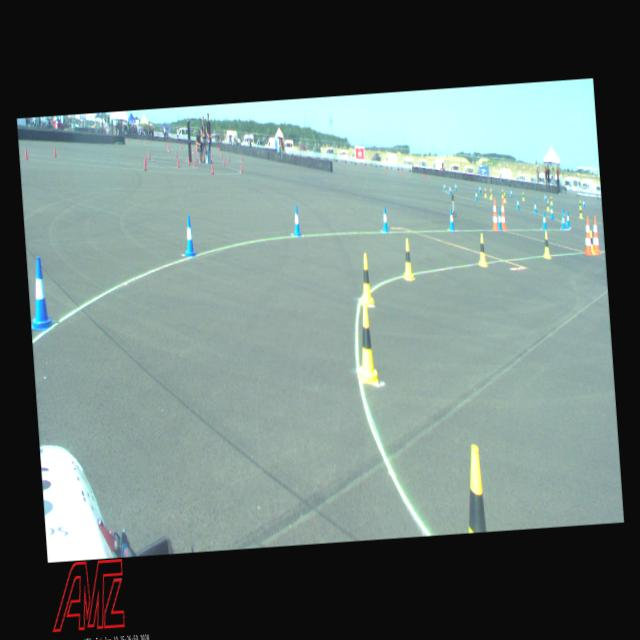blue_cone: (26, 257, 54, 331), (181, 215, 197, 258), (291, 205, 301, 236), (380, 206, 388, 233), (447, 207, 454, 230), (497, 208, 502, 230), (560, 212, 566, 230), (540, 212, 546, 230), (548, 204, 554, 220), (565, 210, 570, 228), (560, 208, 565, 224), (514, 197, 520, 210), (532, 200, 537, 214), (473, 190, 478, 201), (581, 198, 585, 208), (442, 182, 446, 192), (448, 183, 451, 194), (543, 192, 546, 202), (509, 188, 512, 198), (478, 184, 481, 193), (454, 182, 457, 191)
large_orange_cone: (581, 215, 592, 256), (590, 216, 600, 254), (489, 198, 499, 232), (499, 198, 507, 230)
orange_cone: (24, 146, 26, 160)
yellow_cone: (462, 443, 494, 532), (352, 303, 379, 386), (357, 253, 374, 306), (400, 238, 415, 281), (476, 232, 488, 267), (540, 229, 552, 259), (588, 228, 594, 256), (545, 198, 550, 212), (502, 190, 507, 202), (482, 187, 487, 197), (578, 207, 582, 219), (548, 194, 552, 205), (578, 199, 582, 209), (521, 190, 525, 200), (488, 190, 492, 200), (501, 188, 504, 198), (490, 187, 492, 197)
